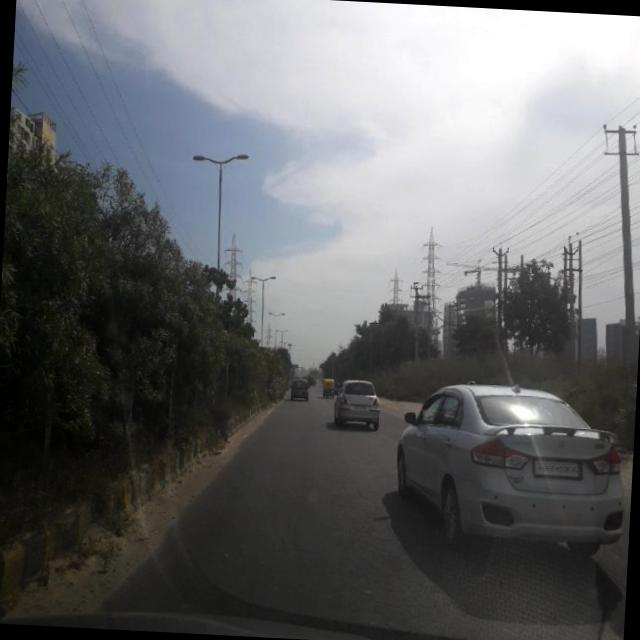crack: (152, 439, 436, 619)
